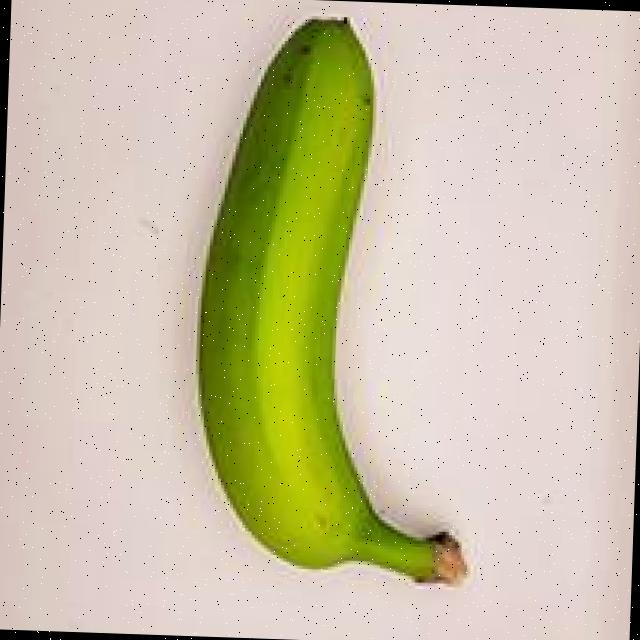Unripe: (145, 0, 518, 607)
